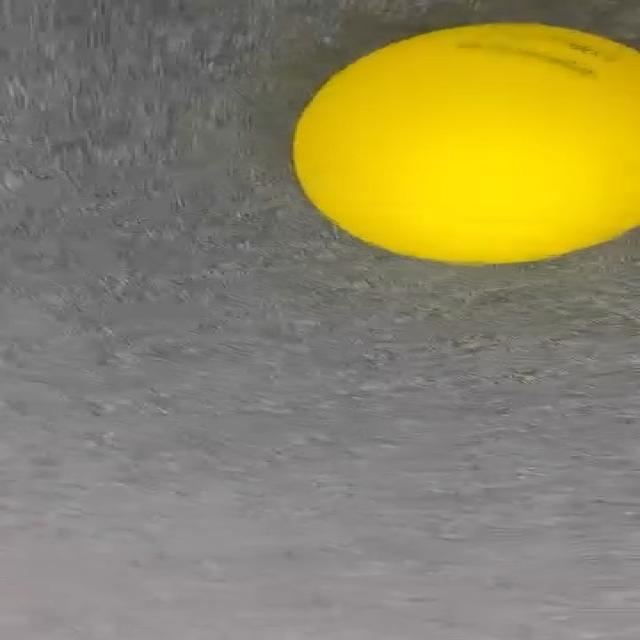Fuels: (298, 18, 640, 265)
